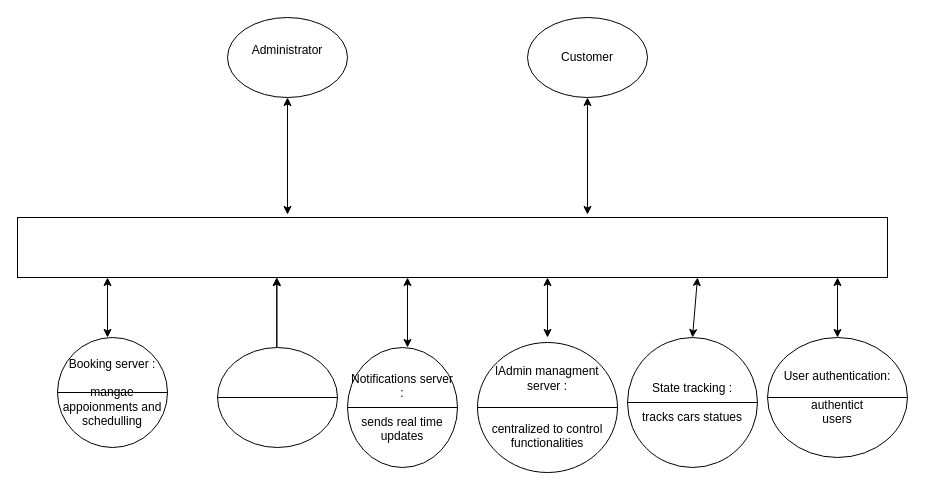
The diagram is 925 pixels wide and 490 high, and some of its shapes have lost their labels. The centre of each missing label's shape, as x and y in pixels:
"Internet" belongs at [452,247].
"Payment server: handels transactions" belongs at [277,397].
